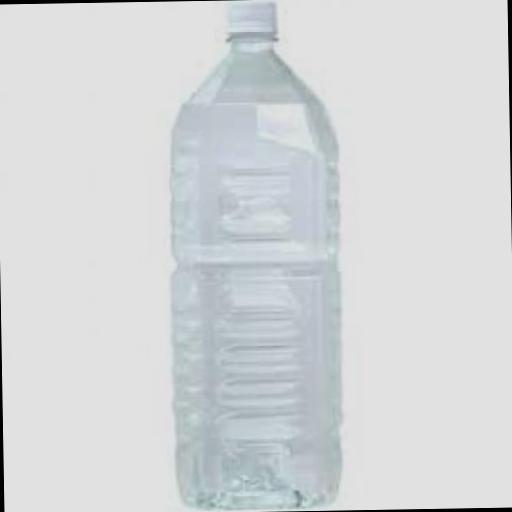plastic: (164, 0, 343, 511), (226, 0, 276, 43)
